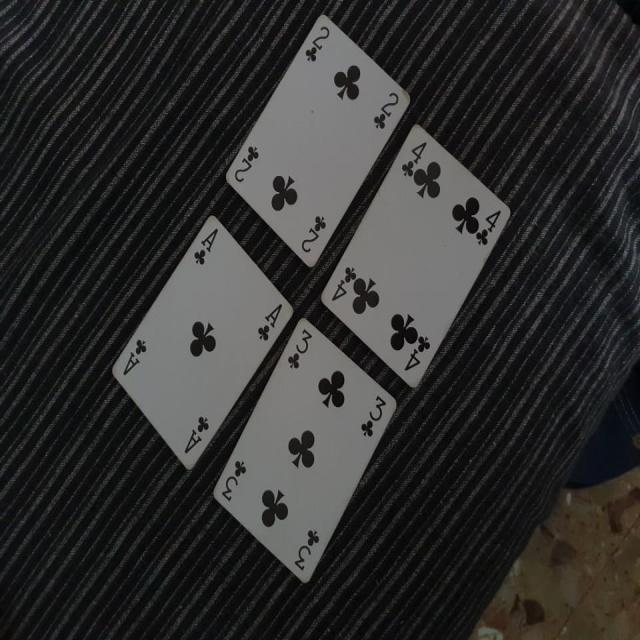2 Trefoils: (220, 10, 411, 268)
3 Trefoils: (212, 314, 398, 583)
4 Trefoils: (320, 124, 511, 388)
A Trefoils: (111, 214, 294, 476)
